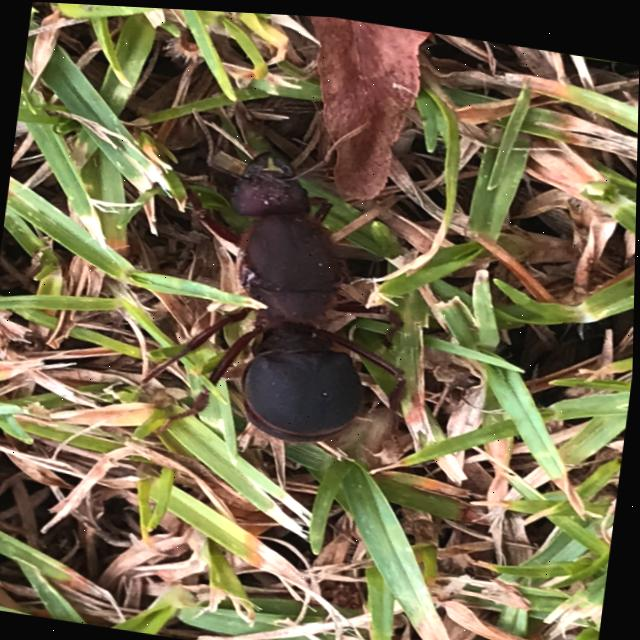Alive-Female-Dealate: (128, 125, 441, 466)
